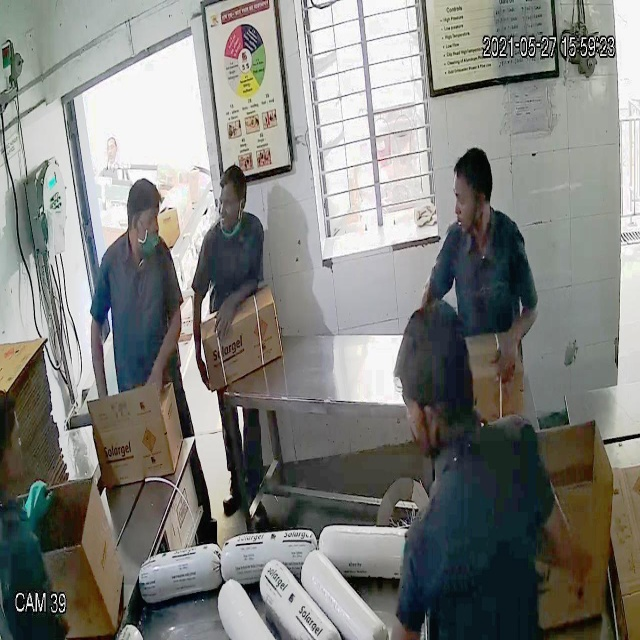Sin_gafas: (126, 204, 163, 231), (452, 188, 489, 211)
